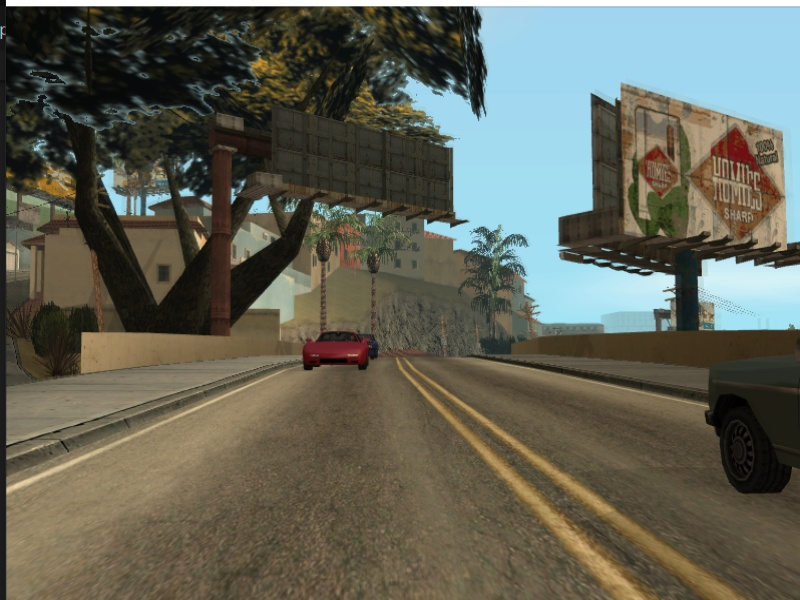vehicle: (301, 328, 374, 373)
